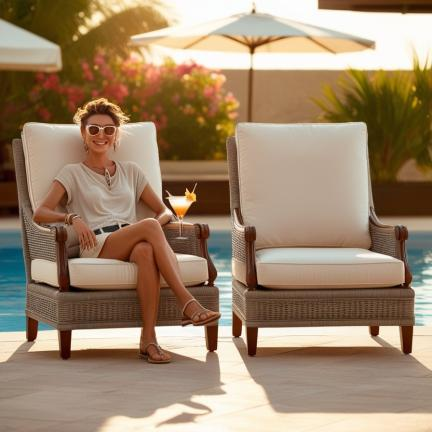empty chair: (227, 122, 414, 355)
guest on chair: (13, 98, 220, 364)
